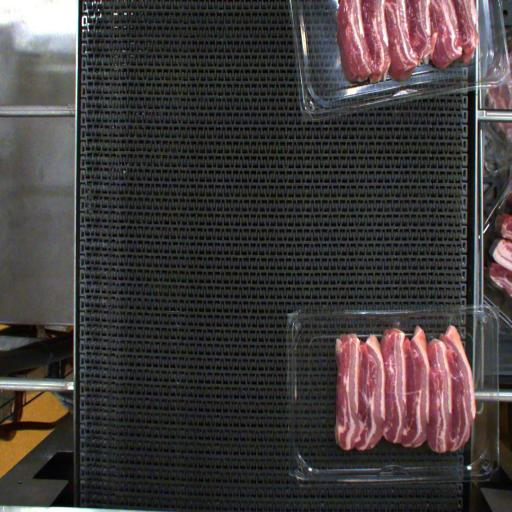wrinkle: (385, 387, 438, 398)
